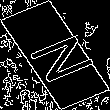N_NE: (14, 25, 96, 85)
